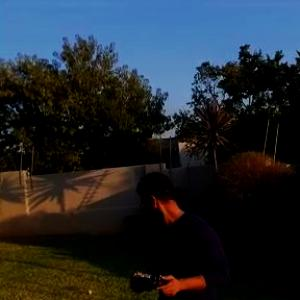follow: (123, 158, 230, 299)
